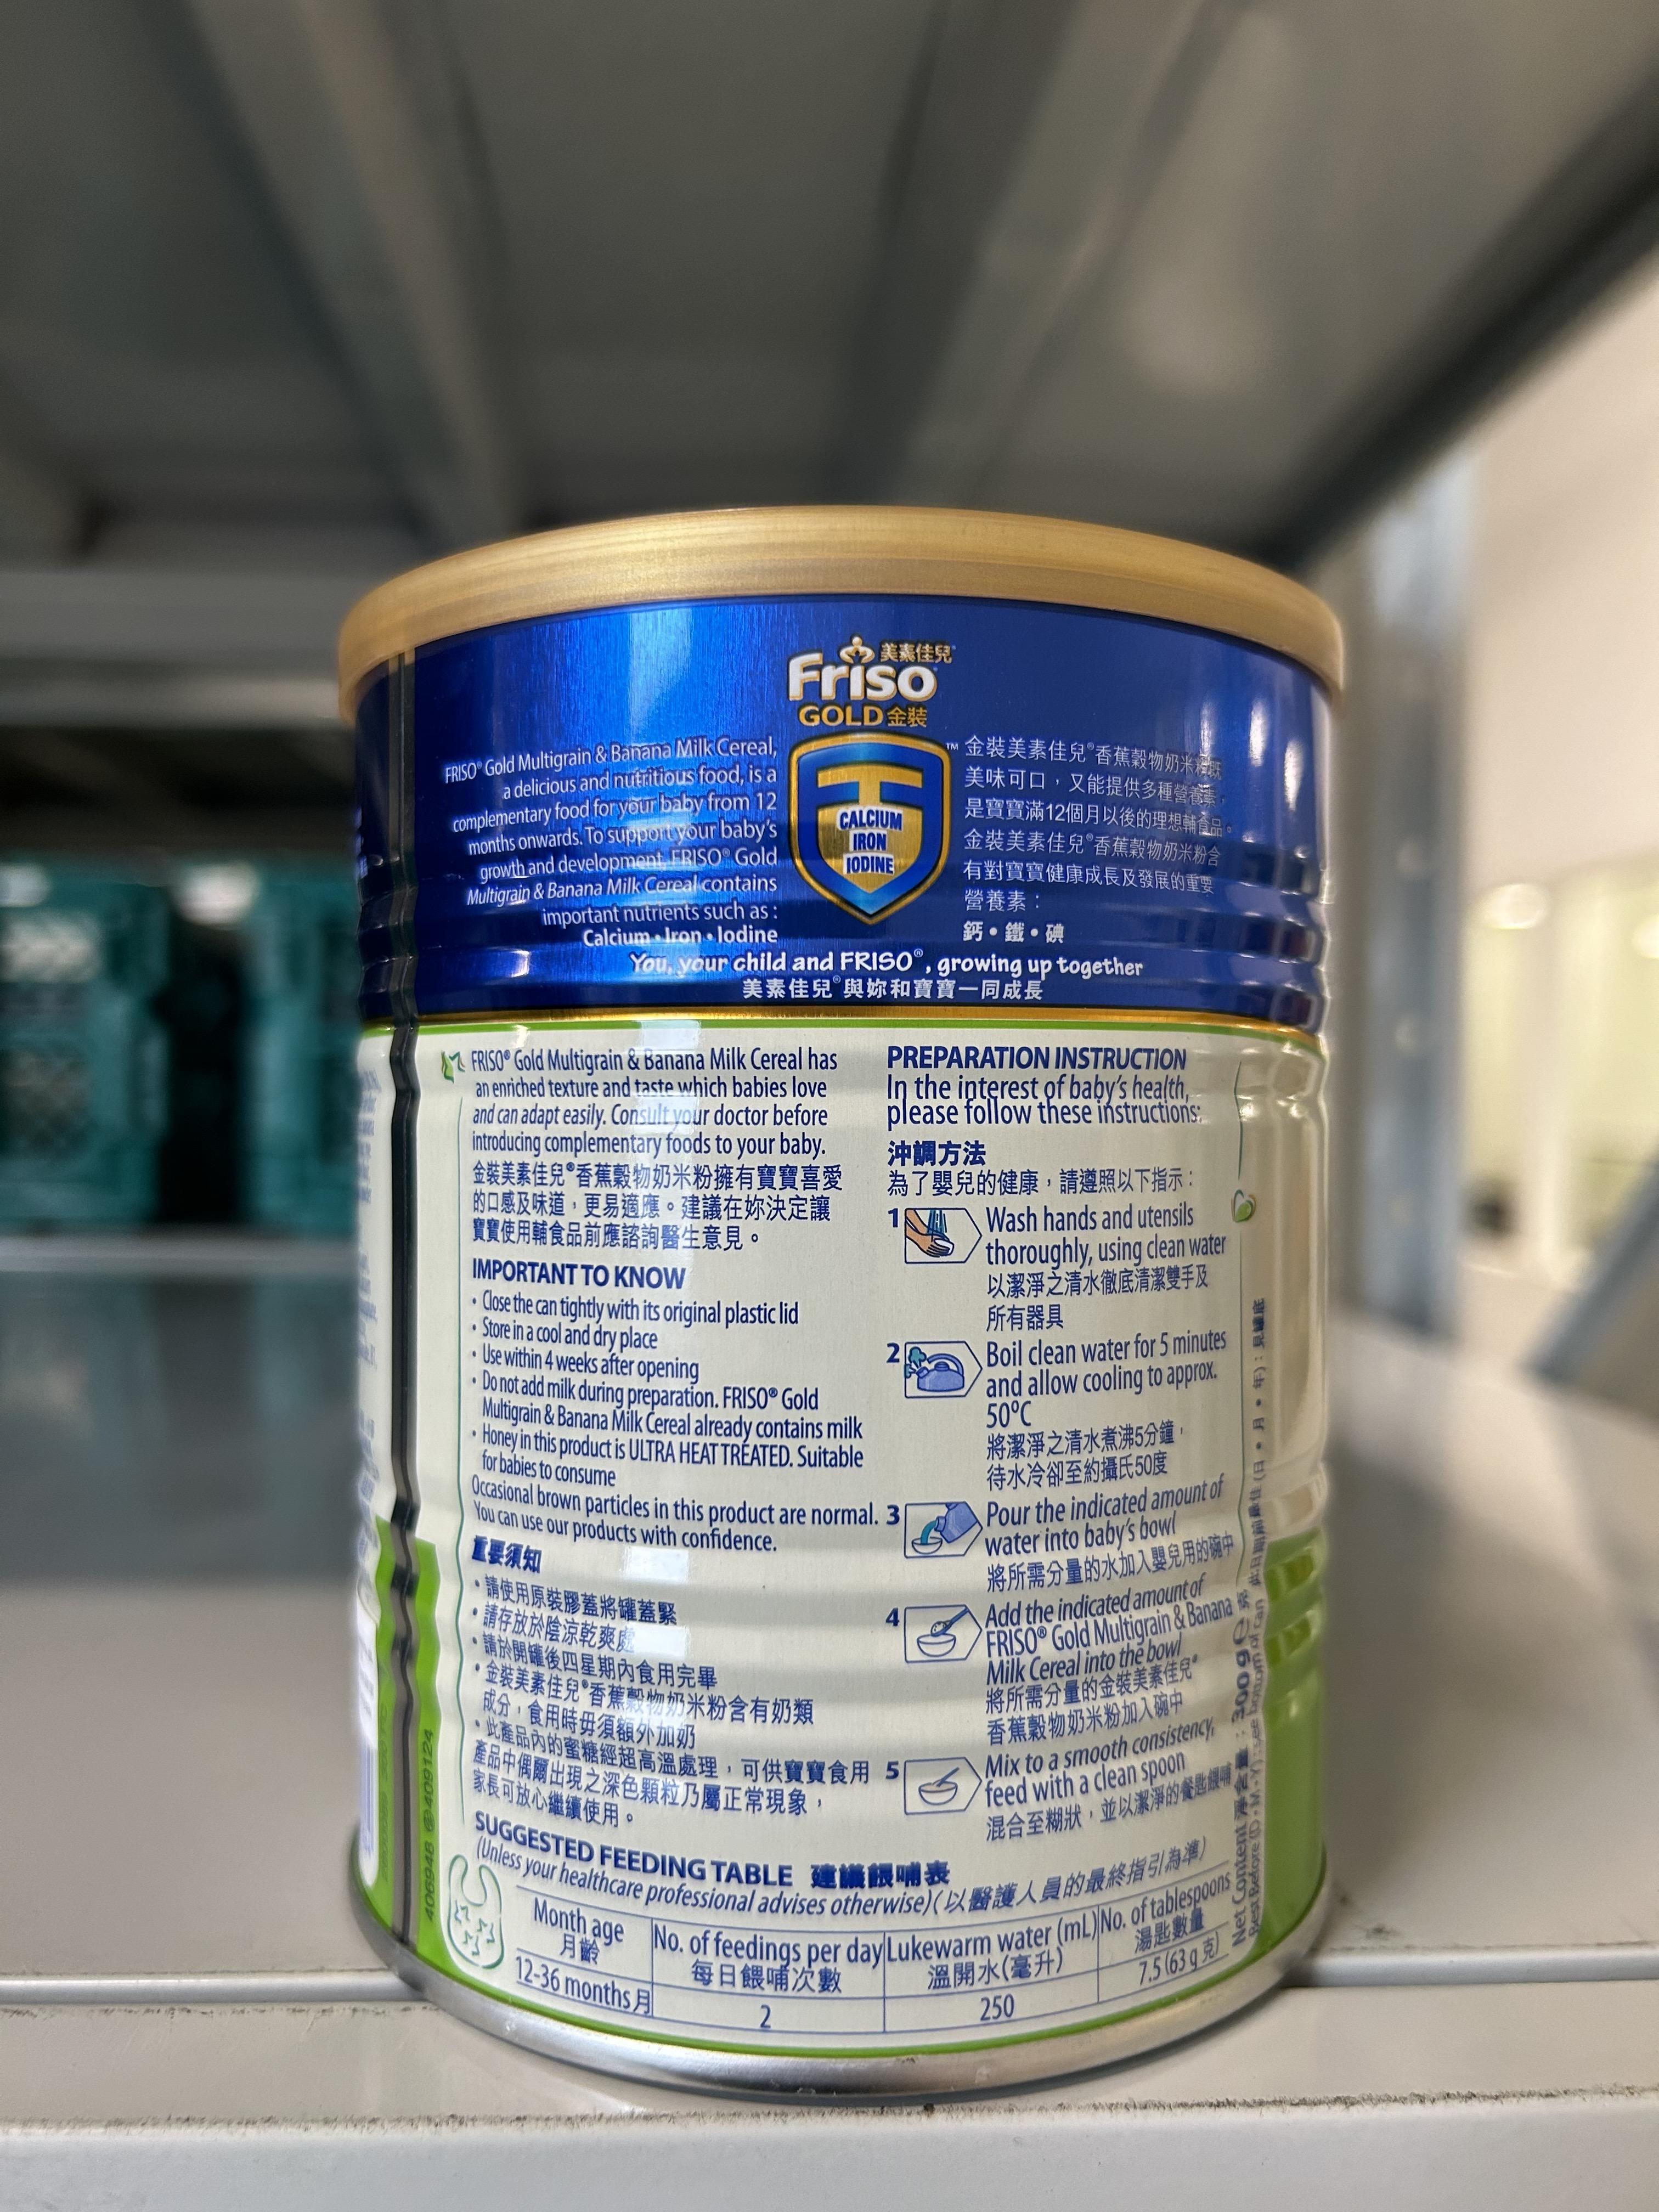object_name: (369, 615, 1310, 1940)
